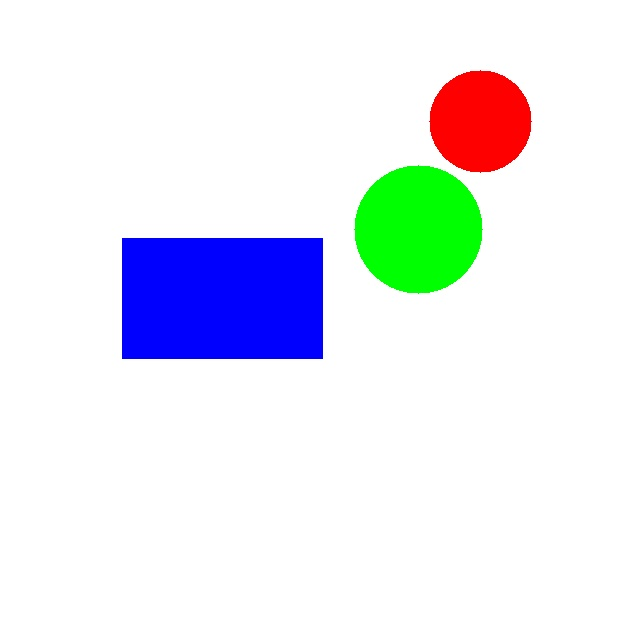cartao: (122, 238, 322, 358)
rosca_externa: (354, 165, 482, 293)
rosca_interna: (429, 70, 531, 172)
